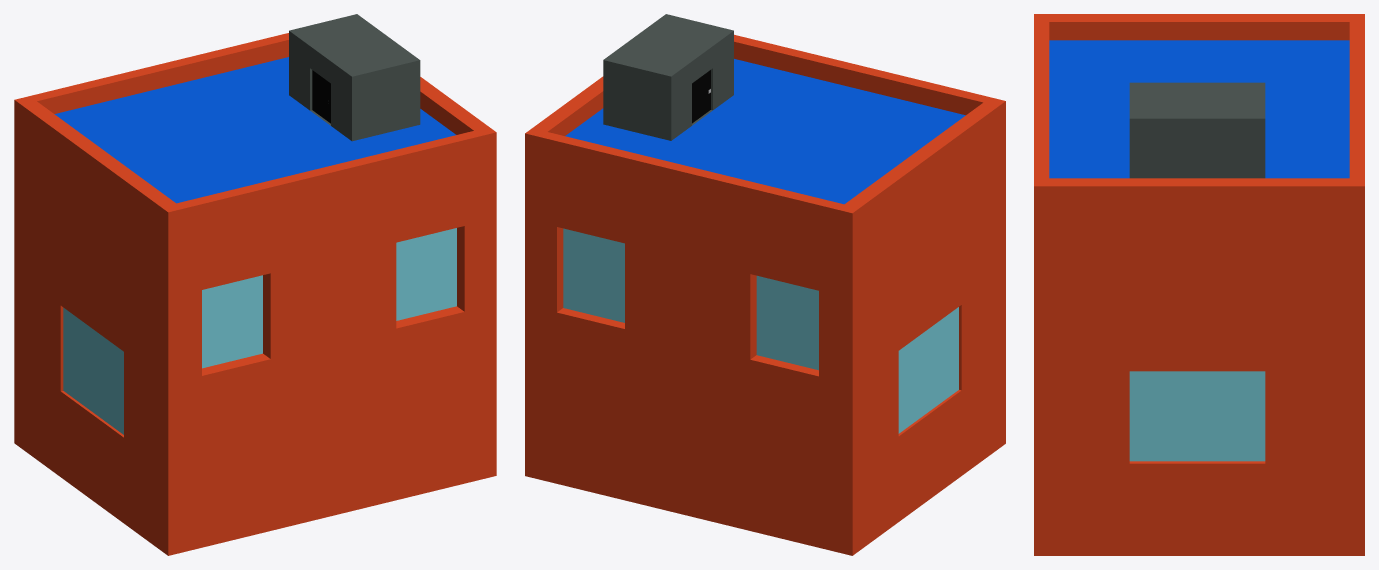
Rendered from edificio 1.fbx.
3 renders of one model, left to right at view 1: azimuth 30°, elevation 25°; view 2: azimuth 150°, elevation 25°; view 3: azimuth 270°, elevation 25°, orthographic. The views are drawn at different scales.
Visible parts, largest first — view 1: Cube, Cube.001, Cube.005, Cube.002, Cube.003; view 2: Cube, Cube.001, Cube.005, Cube.002, Cube.003; view 3: Cube, Cube.001, Cube.002, Cube.005.
Boxes of the visible parts, x1,y1,x2,y2 form: Cube: (14,33,496,555); Cube.001: (54,57,455,203); Cube.005: (63,228,456,434); Cube.002: (289,14,420,141); Cube.003: (312,70,330,123); Cube: (525,34,1005,555); Cube.001: (565,59,965,204); Cube.005: (563,228,958,433); Cube.002: (603,14,733,140); Cube.003: (692,70,710,123); Cube: (1034,14,1364,555); Cube.001: (1049,40,1349,178); Cube.002: (1129,82,1265,178); Cube.005: (1129,371,1265,461).
Bounding box in the file's own units: 1215 × 1383 × 986.
